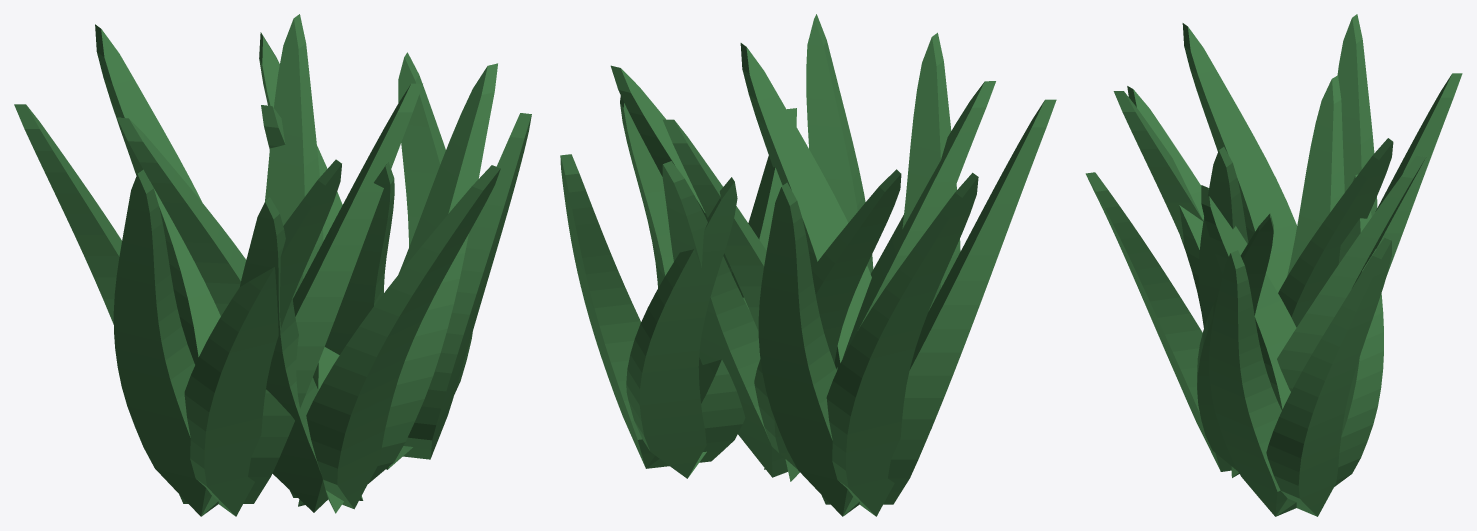
The model's file is Kelp3.fbx.
3 views of the same model, side by side, from view 1: azimuth 30°, elevation 25°; view 2: azimuth 150°, elevation 25°; view 3: azimuth 270°, elevation 25° (orthographic). The views are drawn at different scales.
Parts seen in each view (by area): view 1: Kelp_GreenMat; view 2: Kelp_GreenMat; view 3: Kelp_GreenMat.
Boxes of the visible parts, x1=… form: Kelp_GreenMat: x1=14, y1=14, x2=531, y2=516; Kelp_GreenMat: x1=560, y1=14, x2=1056, y2=516; Kelp_GreenMat: x1=1085, y1=14, x2=1462, y2=516.
Bounding box in the file's own units: 510 × 450 × 440.
